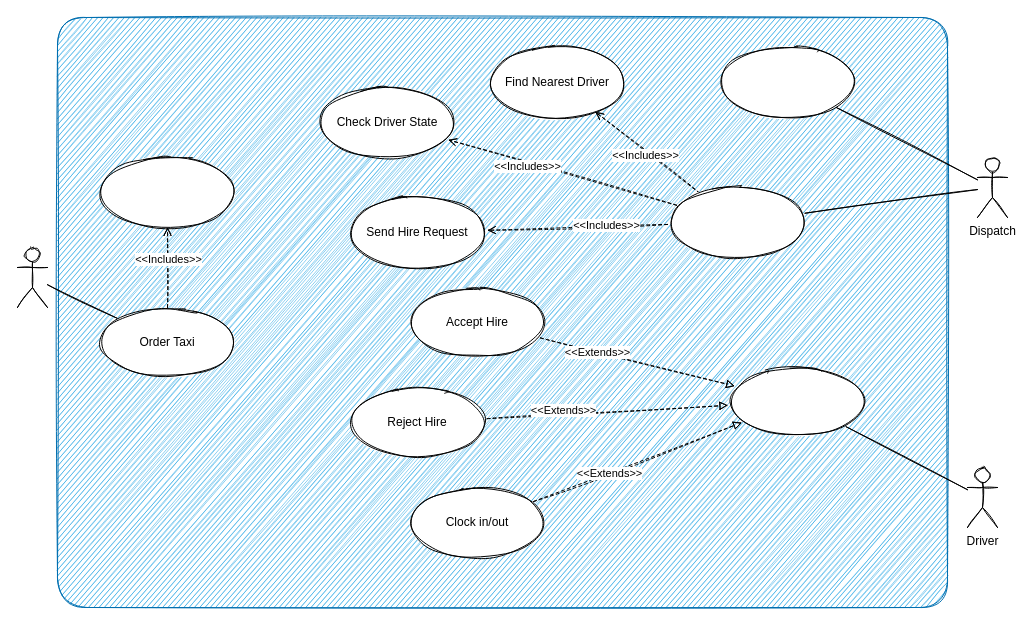
The diagram is 1033 pixels wide and 625 high, and some of its shapes have lost their labels. Here are the shapes that lost their labels. From the top down, the centre of each, then its label:
At point (787, 82): "Log Hire".
At point (167, 192): "Submit Hire Detaiils".
At point (737, 222): "Assign Hire".
At point (32, 277): "Hire".
At point (797, 401): "Report State".
